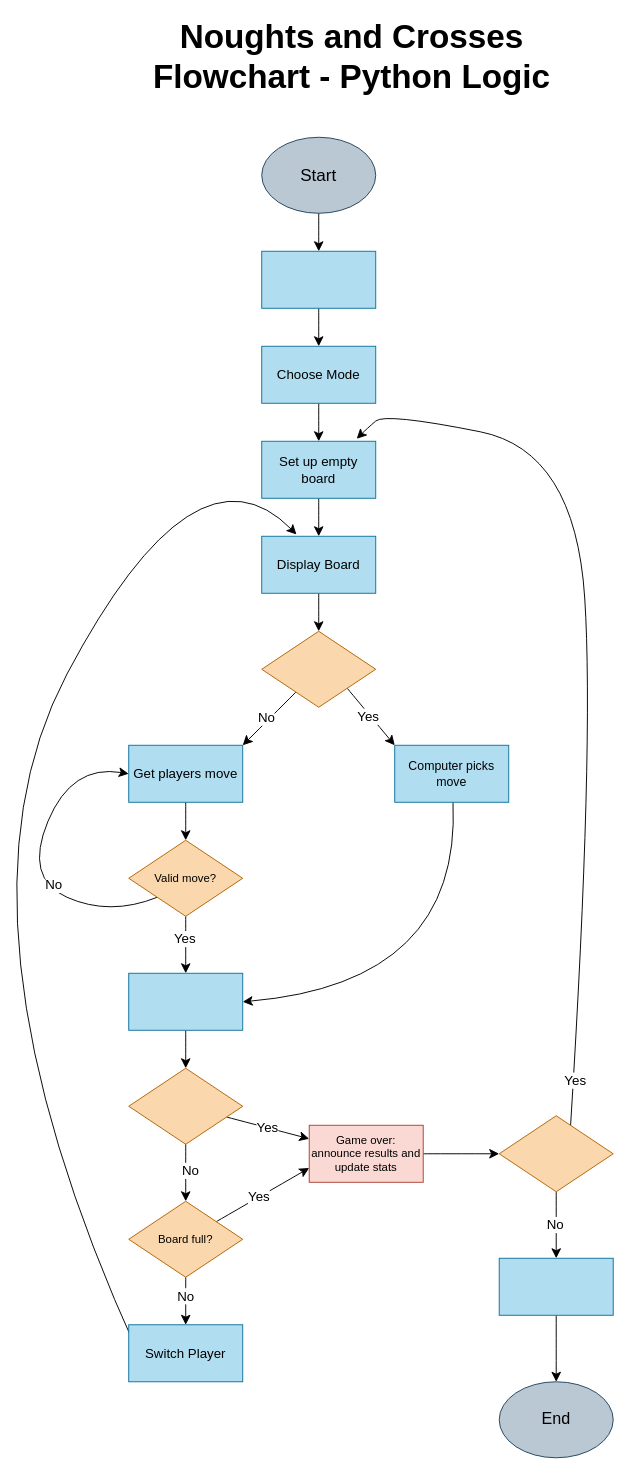
Image size: 630x1474. Some labels were removed from this diagram. The shapes that lost their labels are listed below. From the top down, each one's box as (x1, y1, x2, y2) in pixels, then its label:
(261, 250, 376, 308): Initialise stats
(261, 630, 376, 707): Computers turn?
(128, 972, 243, 1030): Place the chosen mark on board
(128, 1067, 243, 1144): Player won?
(498, 1115, 613, 1192): Play Again
(498, 1257, 613, 1315): Show final stats
